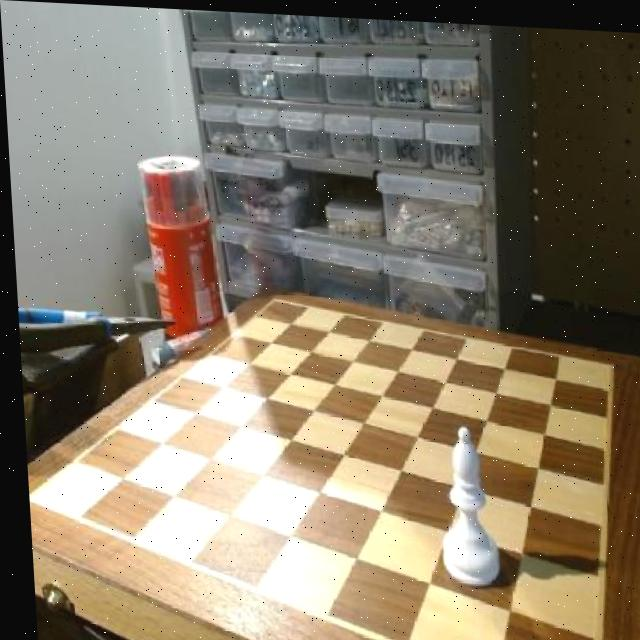black-rook: (426, 418, 500, 586)
